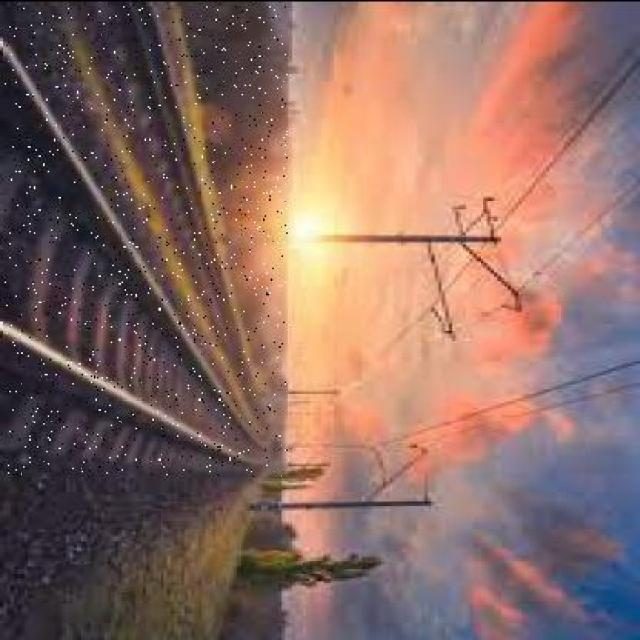rail: (6, 6, 288, 476)
